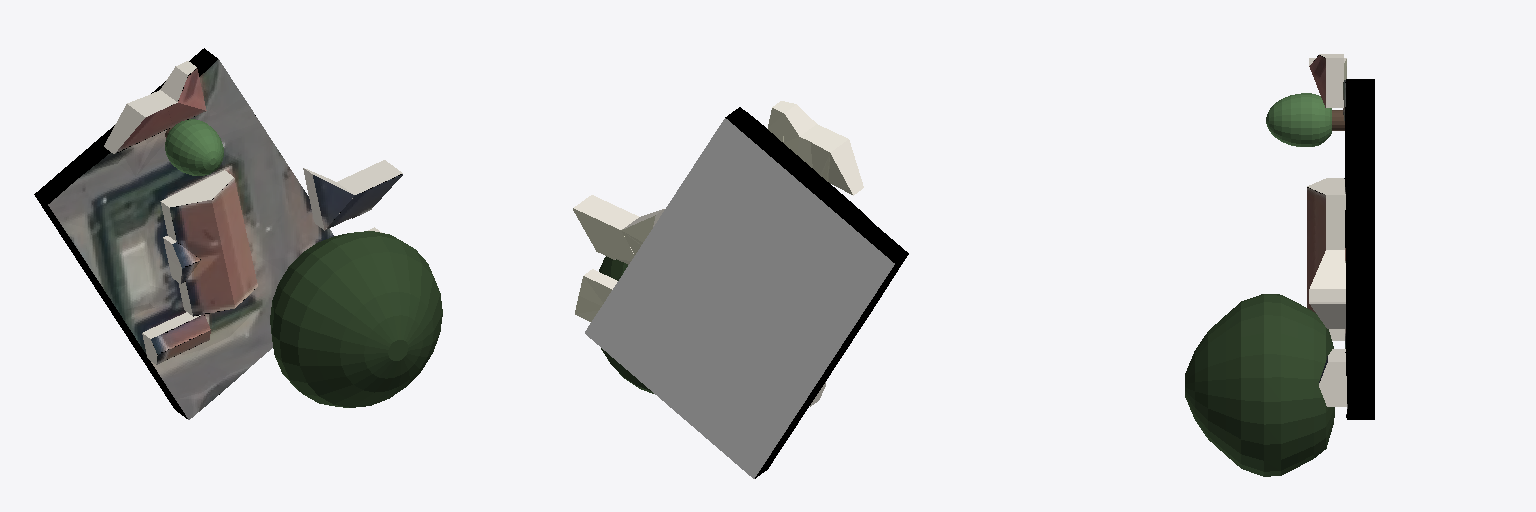
The picture shows the model from 3 angles: view 1: azimuth 30°, elevation 25°; view 2: azimuth 150°, elevation 25°; view 3: azimuth 270°, elevation 25°; orthographic projection.
Visible parts, largest first — view 1: Mesh1 Model, Mesh7 Model, Mesh5 Model, Mesh6 Model, Mesh4 Model, Mesh8 Model, Mesh3 Model; view 2: Mesh1 Model, Mesh6 Model, Mesh4 Model, Mesh2 Model, Mesh7 Model; view 3: Mesh7 Model, Mesh1 Model, Mesh5 Model, Mesh8 Model, Mesh4 Model, Mesh6 Model, Mesh2 Model.
Part boxes in pixels (bbox=[...]): Mesh1 Model: bbox=[34, 48, 333, 419]; Mesh7 Model: bbox=[270, 231, 442, 407]; Mesh5 Model: bbox=[160, 170, 257, 316]; Mesh6 Model: bbox=[104, 61, 206, 153]; Mesh4 Model: bbox=[303, 160, 402, 230]; Mesh8 Model: bbox=[165, 119, 223, 175]; Mesh3 Model: bbox=[142, 312, 210, 364]; Mesh1 Model: bbox=[585, 107, 908, 478]; Mesh6 Model: bbox=[768, 101, 863, 195]; Mesh4 Model: bbox=[573, 195, 664, 264]; Mesh2 Model: bbox=[575, 269, 617, 321]; Mesh7 Model: bbox=[599, 256, 653, 393]; Mesh7 Model: bbox=[1185, 294, 1334, 476]; Mesh1 Model: bbox=[1343, 79, 1374, 419]; Mesh5 Model: bbox=[1307, 178, 1345, 312]; Mesh8 Model: bbox=[1266, 93, 1331, 146]; Mesh4 Model: bbox=[1309, 250, 1345, 328]; Mesh6 Model: bbox=[1309, 54, 1346, 107]; Mesh2 Model: bbox=[1319, 349, 1346, 406].
Bounding box in the file's own units: 59.62 × 58.97 × 28.04.
Materials: 21 (13 with a texture image).